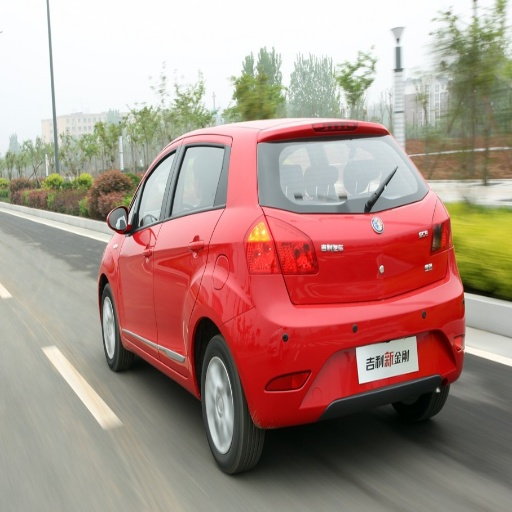back_bumper: (234, 268, 465, 422)
back_glass: (286, 150, 419, 208)
back_left_door: (157, 139, 221, 358)
trunk: (268, 204, 442, 339)
